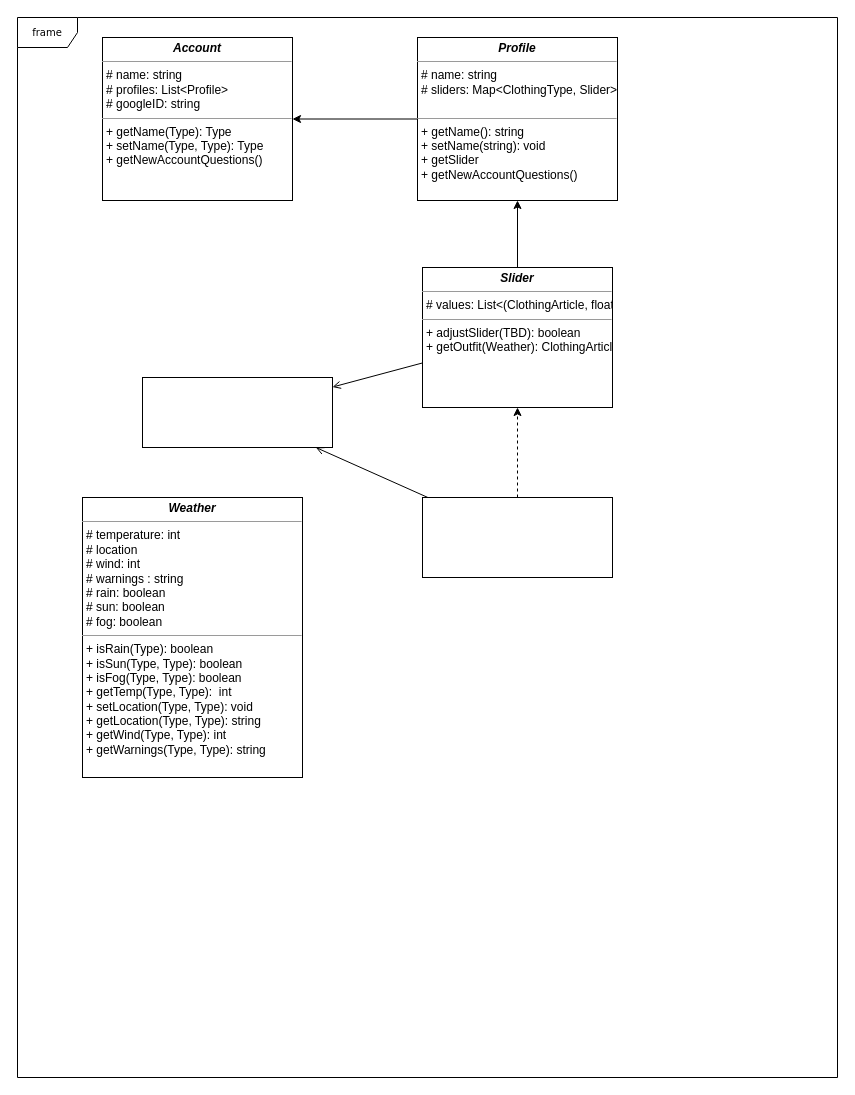
This 855x1095 diagram has some shape labels left out. The shapes that lost their labels are listed below. From the top down, each one's centre as x and y in pixels, then its label:
At (x=237, y=412): "enum ClothingType Hat, Top, Bottom, Mask, Gloves, Scarf, Shoes, Socks".
At (x=517, y=537): "ClothingArticle # type: ClothingType # name: string # description: string".
